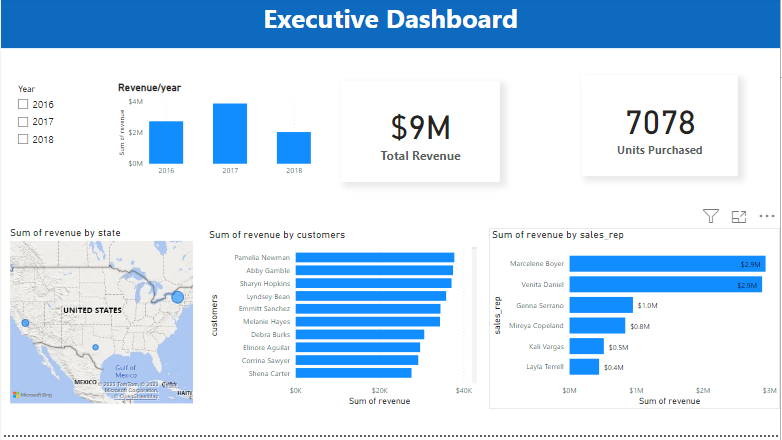

What the dashboard file says about the page in this screenshot:
{"tool":"powerbi","page":{"name":"Page 1","canvas":[1280,720],"ordinal":0},"visuals":[{"type":"textbox","box":[0,0,1280,83.8],"z":0},{"type":"columnChart","title":"Revenue/year","fields":{"Category":["Data.order_date.Variation.Date Hierarchy.Year","Data.order_date.Variation.Date Hierarchy.Quarter","Data.order_date.Variation.Date Hierarchy.Month","Data.order_date.Variation.Date Hierarchy.Day"],"Y":["Data.revenue"]},"box":[187.3,138,327,166],"z":1000},{"type":"barChart","fields":{"Y":["Data.revenue"],"Category":["Data.sales_rep"]},"box":[801.8,379.6,478.2,297.4],"z":2000},{"type":"card","fields":{"Values":["Data.total_units"]},"box":[954.7,128.2,256.3,166],"z":3000},{"type":"card","fields":{"Values":["Data.revenue"]},"box":[558.7,138,261.3,166],"z":4000},{"type":"slicer","fields":{"Values":["Data.order_date.Variation.Date Hierarchy.Year"]},"box":[14.8,138,121.6,192.2],"z":5000},{"type":"map","fields":{"Size":["Data.revenue"],"Category":["Data.state"]},"box":[9.9,376.3,310.6,297.4],"z":6000},{"type":"barChart","fields":{"Y":["Data.revenue"],"Category":["Data.customers"]},"box":[336.8,379.6,450.2,297.4],"z":7000}]}

Visuals, with their boxes in screenshot pixels (x1, y1, x2, y2), scaled from the page's 1280x720 canvas onto the 782x440 screenshot:
textbox: bbox=[0, 0, 781, 51]
"Revenue/year" columnChart: bbox=[114, 84, 314, 186]
barChart - Data.revenue x Data.sales_rep: bbox=[490, 232, 781, 414]
card - Data.total_units: bbox=[583, 78, 740, 180]
card - Data.revenue: bbox=[341, 84, 501, 186]
slicer - Data.order_date.Variation.Date Hierarchy.Year: bbox=[9, 84, 83, 202]
map - Data.revenue x Data.state: bbox=[6, 230, 196, 412]
barChart - Data.revenue x Data.customers: bbox=[206, 232, 481, 414]
